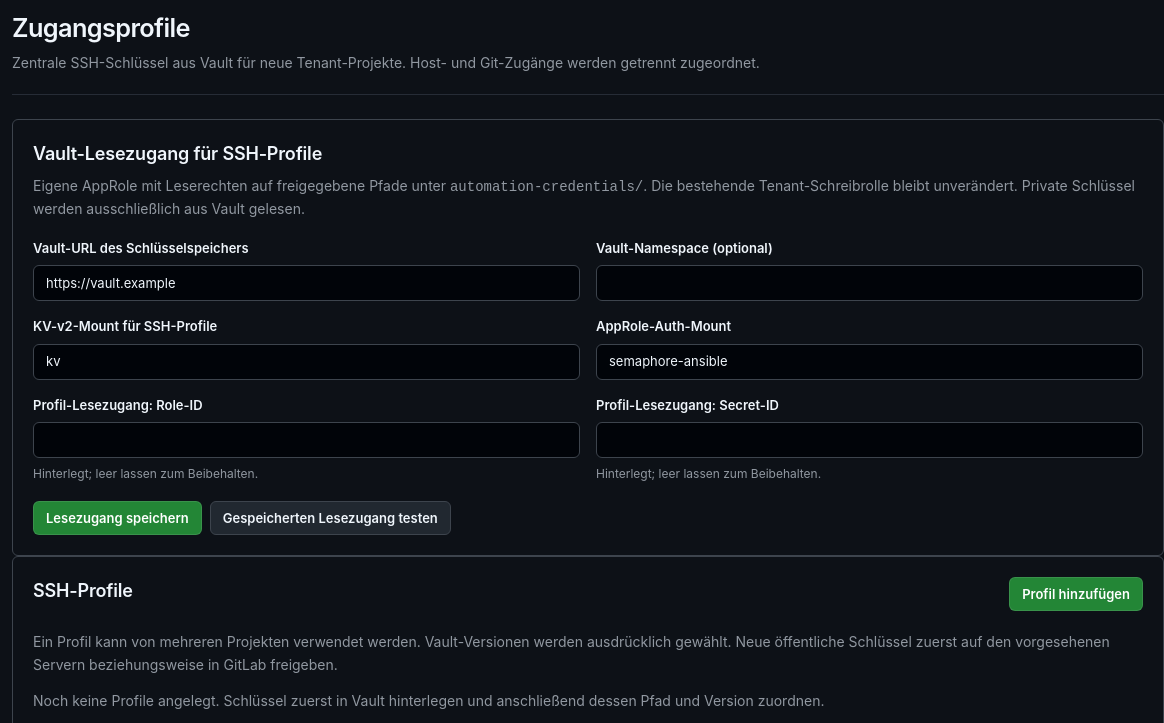
Scenario: Zentrale SSH-Profile › hinterlegt den eigenen Vault-Lesezugang und leert die Zugangsfelder nach dem Speichern
The width and height of the screenshot is (1164, 723).
Type "role-entered-once" into the password field labelled "Profil-Lesezugang: Role-ID" at coordinates (306, 440), box [33, 422, 580, 458]
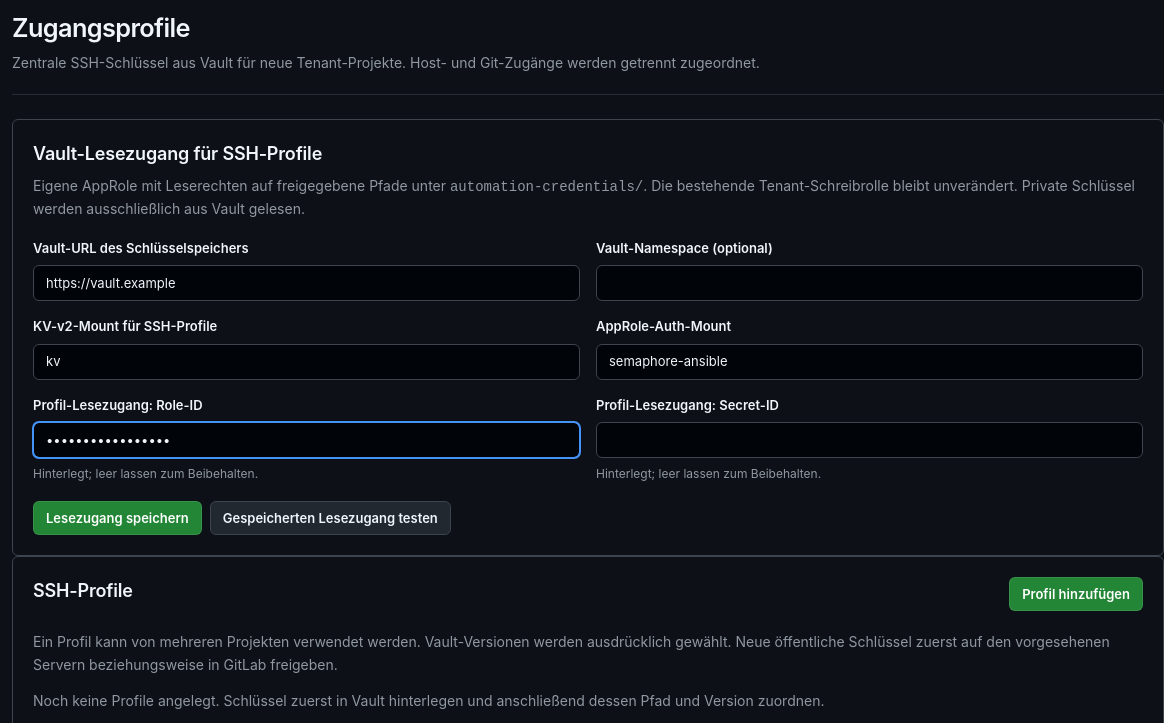
Type "secret-entered-once" into the password field labelled "Profil-Lesezugang: Secret-ID" at coordinates (870, 440), box [596, 422, 1143, 458]
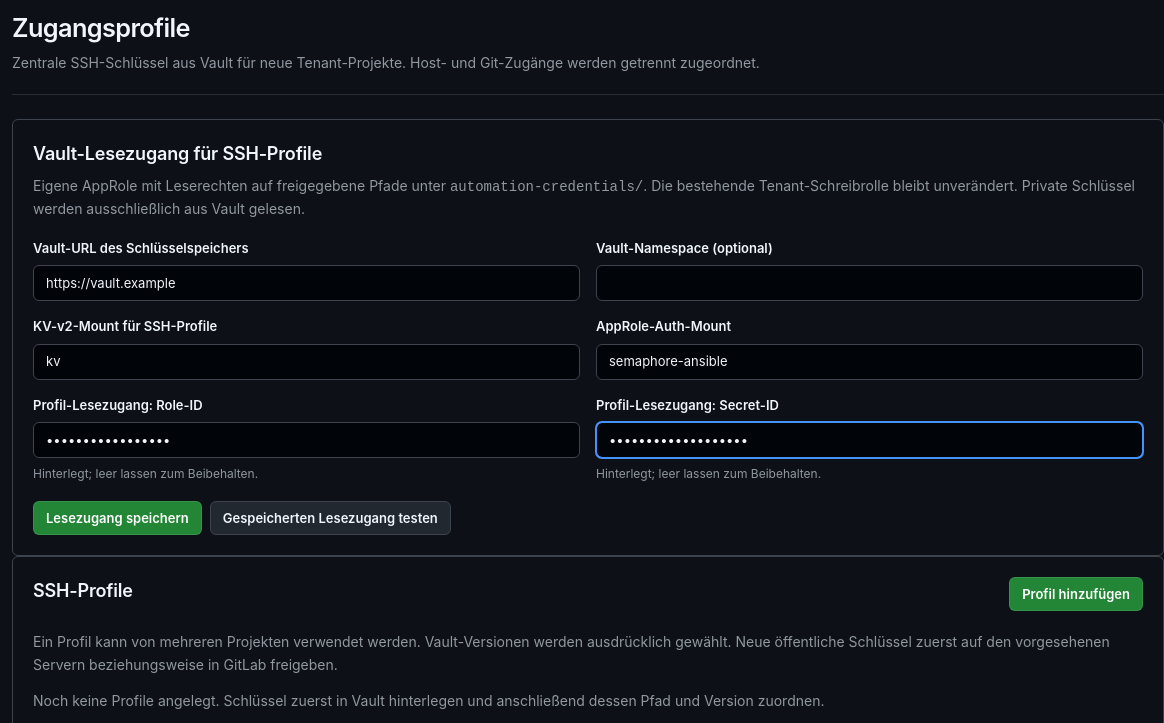
Click the button "Lesezugang speichern" at coordinates (117, 518), box [33, 501, 202, 535]
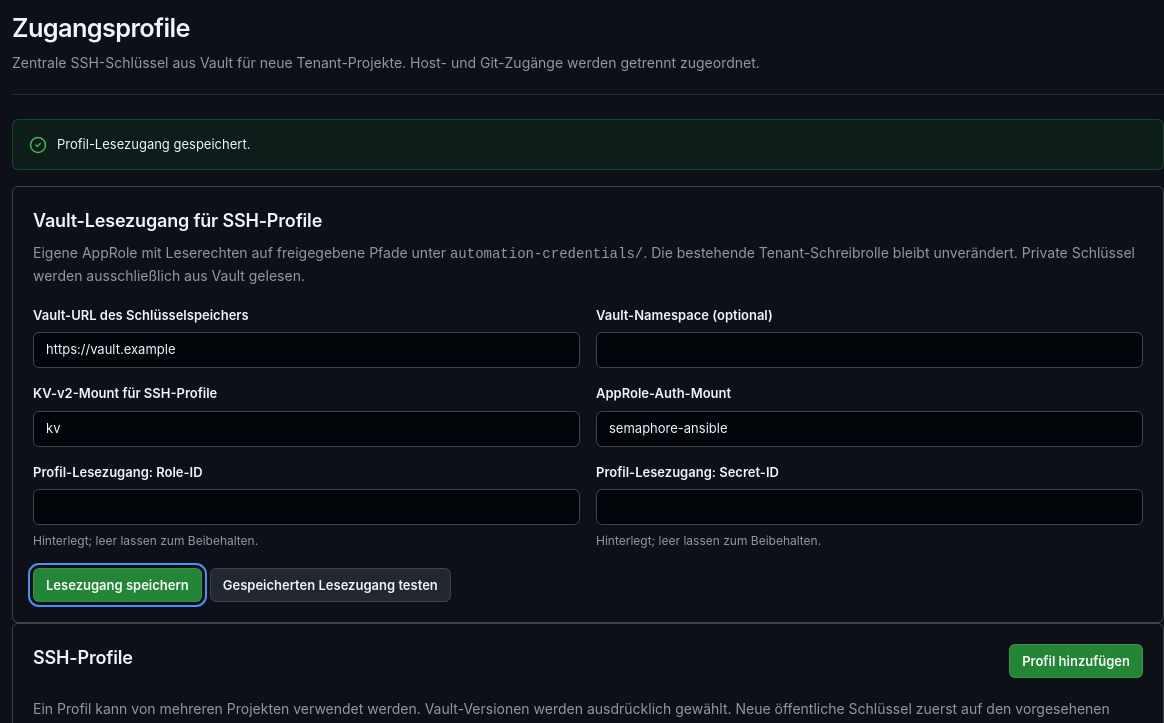
Check: the password field labelled "Profil-Lesezugang: Secret-ID" is empty, box [596, 489, 1143, 525]
Check: the text "Profil-Lesezugang gespeichert." is shown, box [57, 134, 250, 155]
Check: the password field labelled "Profil-Lesezugang: Role-ID" is empty, box [33, 489, 580, 525]
